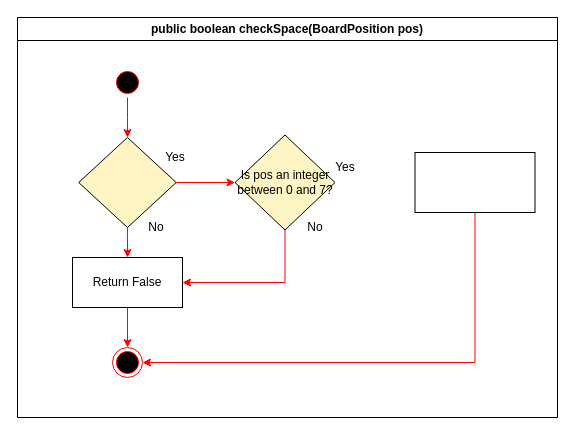
The diagram is 575 pixels wide and 435 high, and some of its shapes have lost their labels. Each missing label, with the centre of its shape:
"Is pos an available position on the game board?" goes at pixel 127 182.
"Return True" goes at pixel 474 182.
